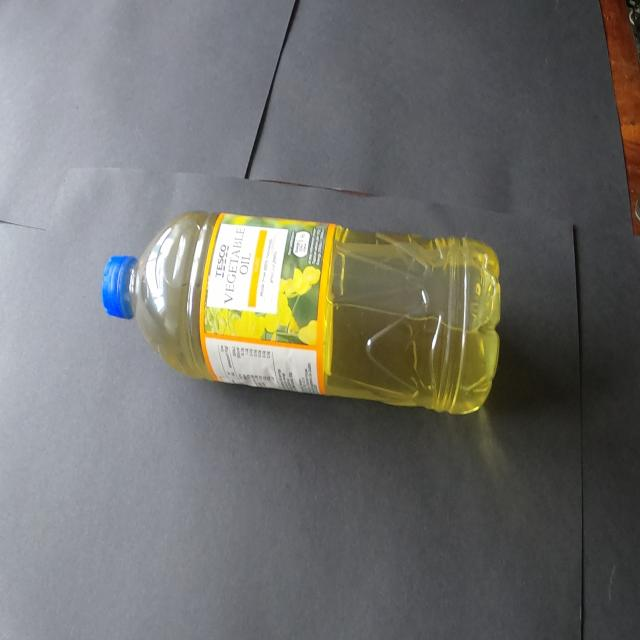Vegetableoil: (90, 195, 517, 441)
